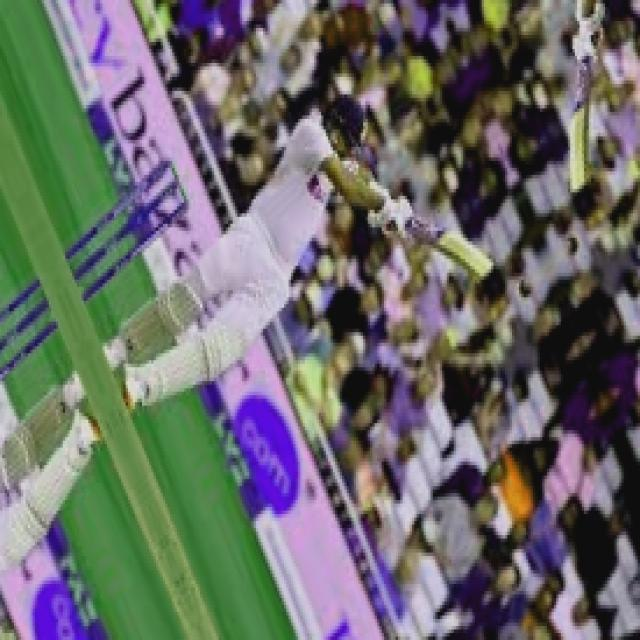toe: (476, 261, 500, 282)
